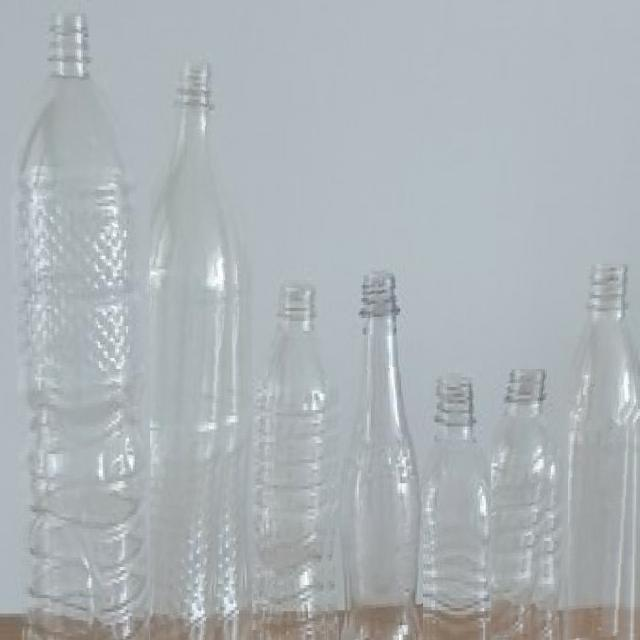plastic bottle: (19, 16, 149, 640), (150, 62, 248, 640), (252, 280, 340, 640), (342, 270, 423, 640), (568, 264, 640, 640), (491, 370, 563, 640), (422, 373, 494, 640)
